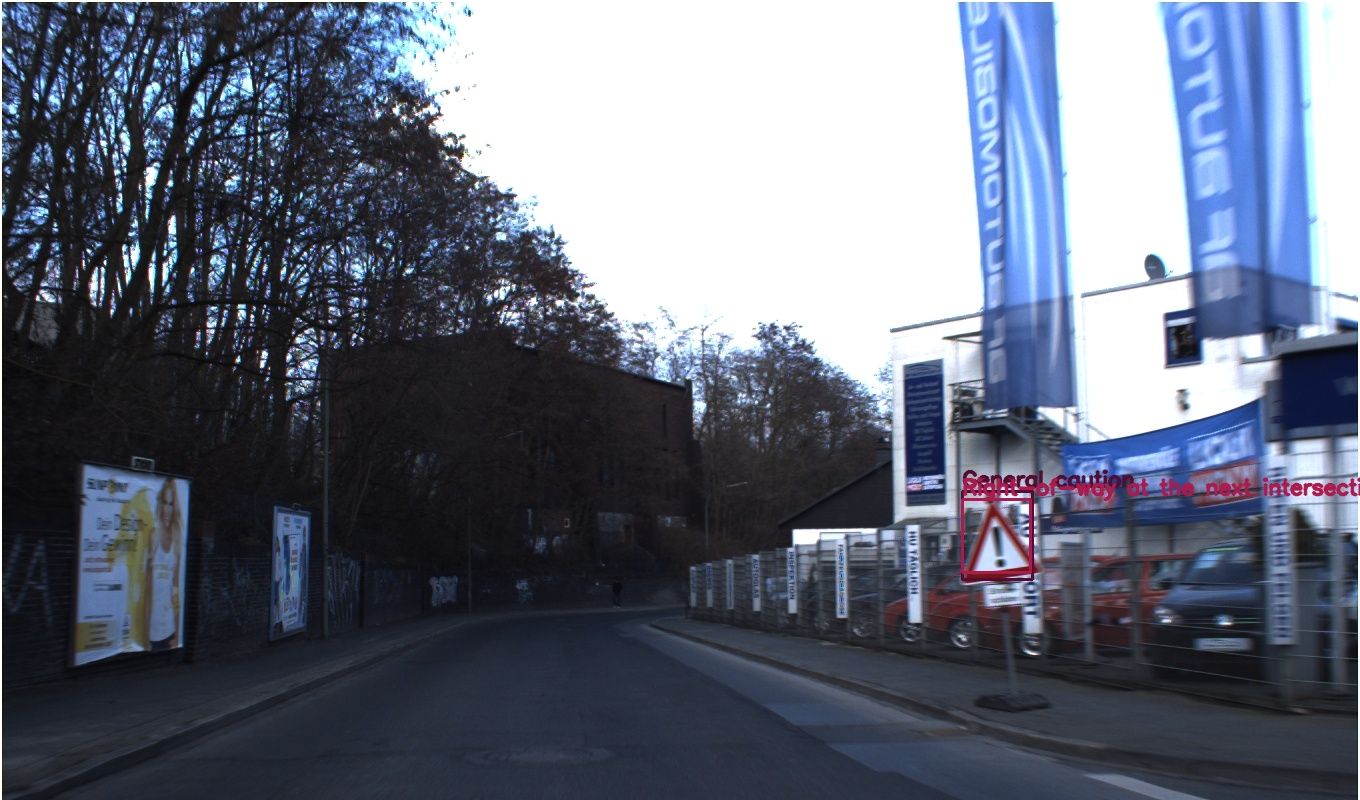Right-of-way at the next intersection: (705, 379, 752, 422)
